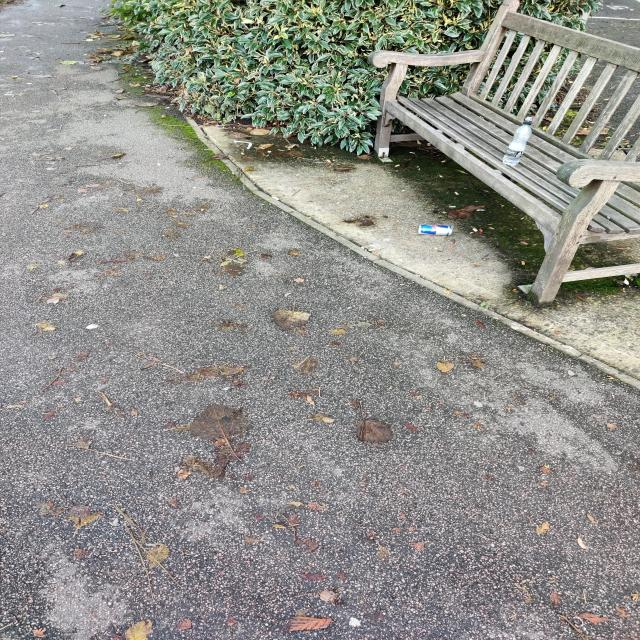litter: (503, 117, 532, 165), (418, 225, 452, 236), (232, 140, 252, 149)
